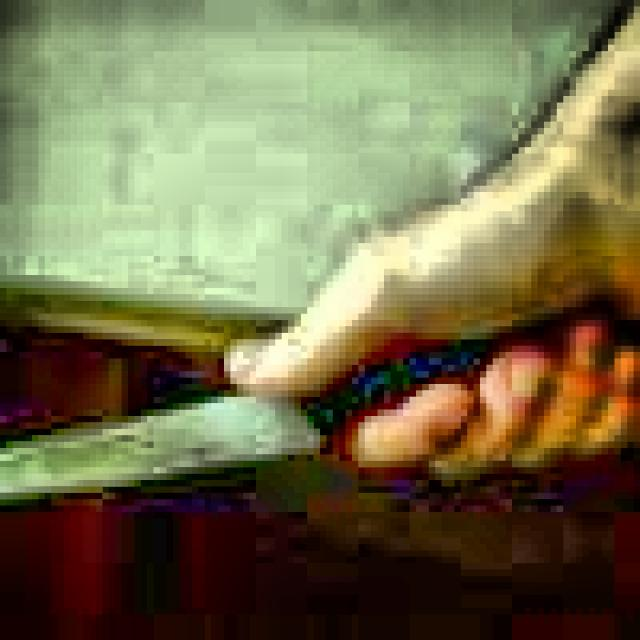knife: (4, 310, 634, 496)
